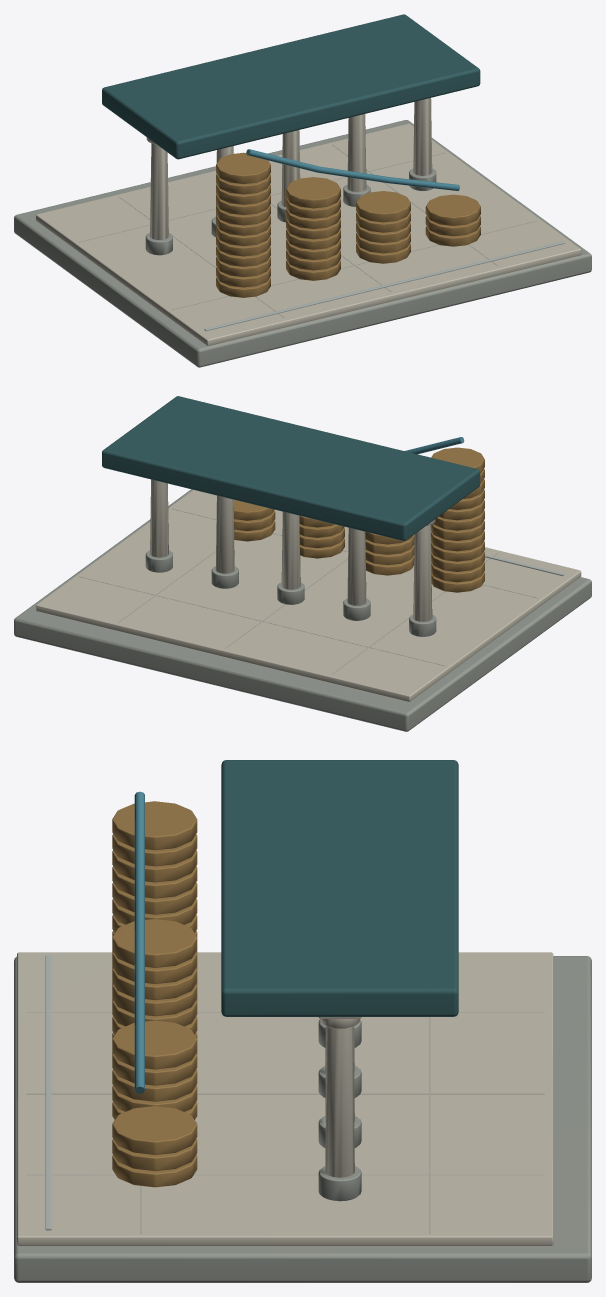
Rendered from idea-786adf8a.glb.
3 views of the same model, one above another, from view 1: azimuth 30°, elevation 25°; view 2: azimuth 150°, elevation 25°; view 3: azimuth 270°, elevation 25° (orthographic). The views are drawn at different scales.
Parts seen in each view (by area): view 1: Karmic Finance OS; view 2: Karmic Finance OS; view 3: Karmic Finance OS.
Part boxes in pixels (x1,y1,x2,y2): Karmic Finance OS: (14,14,591,367); Karmic Finance OS: (14,396,591,731); Karmic Finance OS: (14,760,591,1282).
Bounding box in the file's own units: 4.8 × 1.95 × 3.9.
